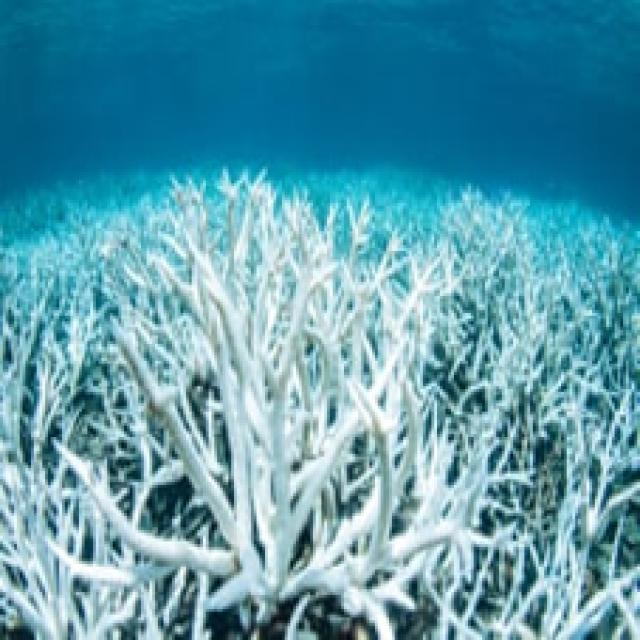Bleached: (1, 190, 640, 640), (131, 178, 459, 604)
